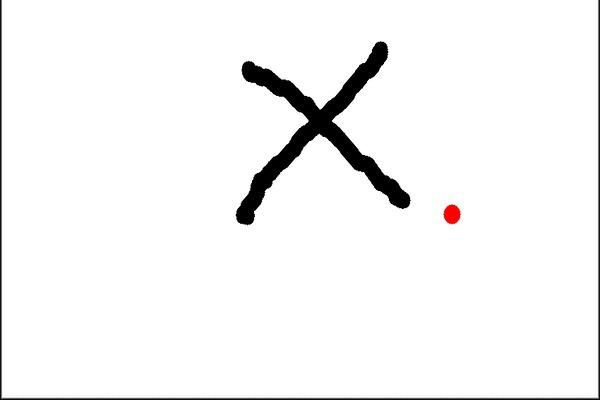Z: (211, 23, 421, 232)
